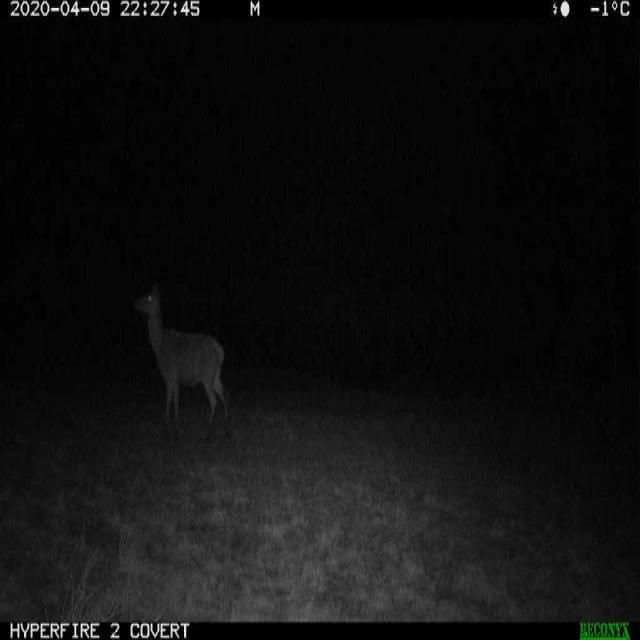deer: (126, 271, 235, 446)
